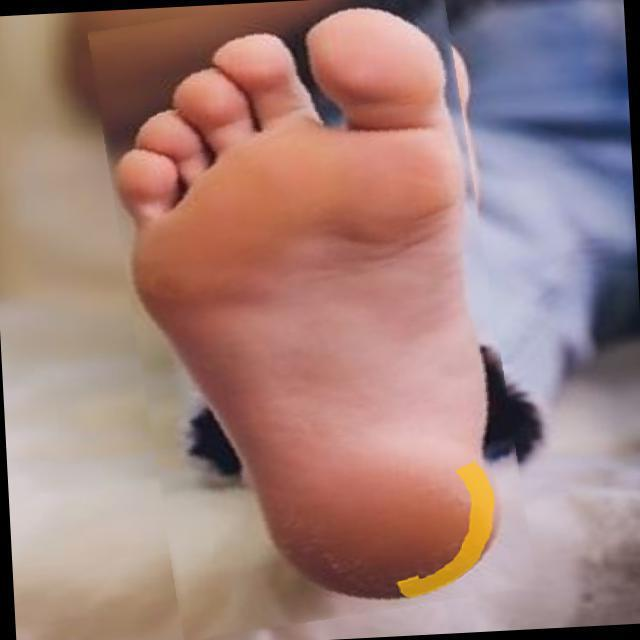No_Shoes: (110, 28, 483, 616)
